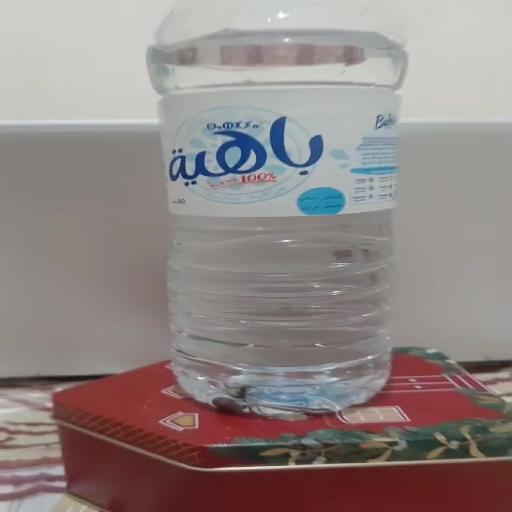bouteille conformite: (96, 3, 460, 412)
